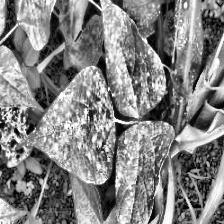Bean Rust: (20, 66, 114, 187), (94, 0, 161, 117), (113, 120, 174, 224), (0, 90, 32, 182)
